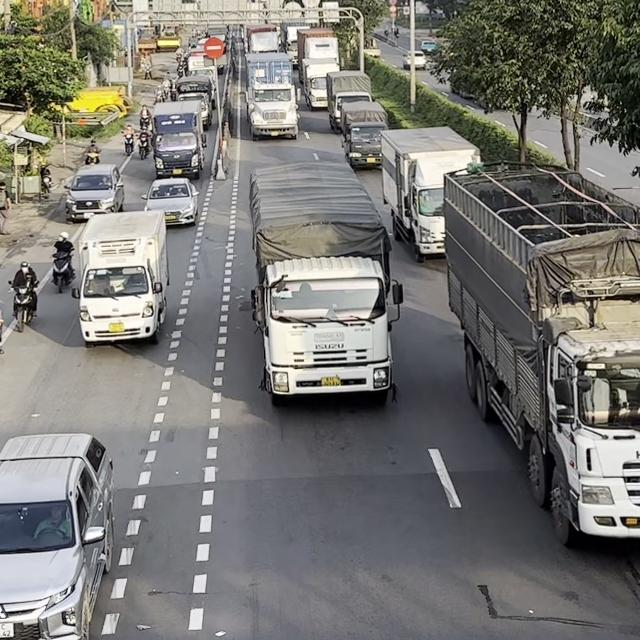car: (0, 431, 115, 639), (62, 163, 125, 223), (140, 177, 199, 227)
motorcycle: (6, 279, 38, 330), (50, 251, 73, 293), (136, 131, 150, 159), (122, 131, 135, 155)
truck: (442, 158, 639, 546), (247, 160, 403, 404), (378, 124, 481, 262), (69, 209, 169, 347), (241, 52, 299, 140), (150, 100, 206, 179), (341, 101, 388, 170), (325, 69, 373, 133), (296, 27, 340, 86), (301, 59, 340, 110)
